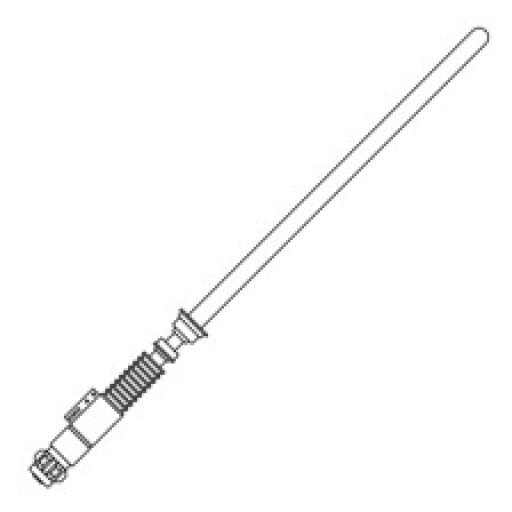lightsaber: (30, 26, 491, 493)
